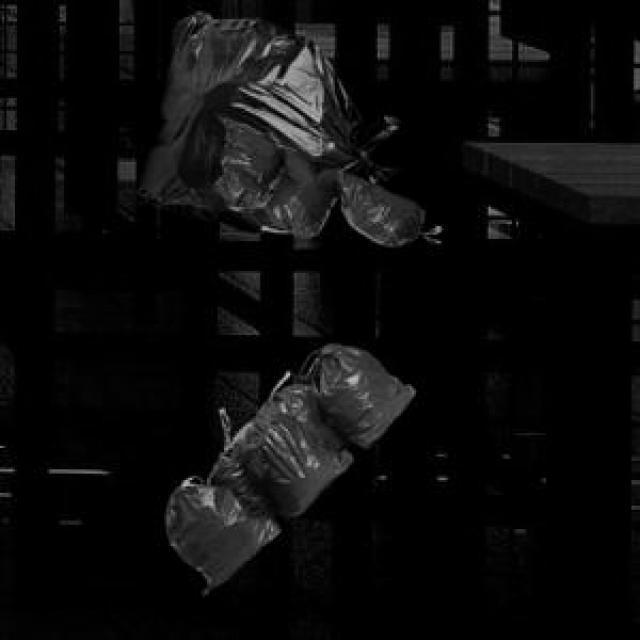miscellaneous trash: (164, 339, 412, 591), (134, 9, 395, 228), (216, 115, 420, 241)
